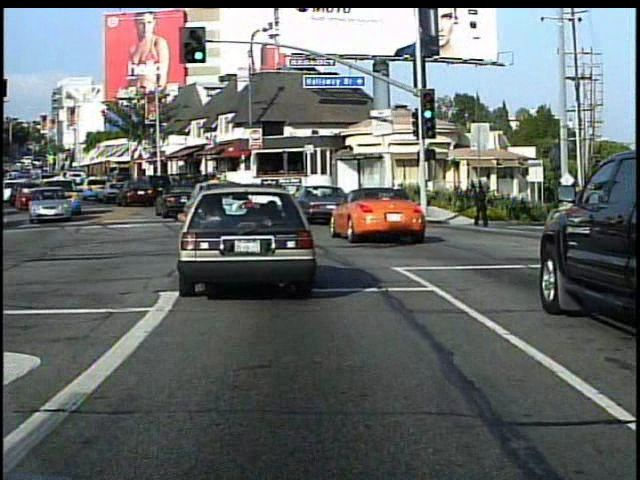person: (559, 184, 583, 245), (468, 182, 491, 229)
